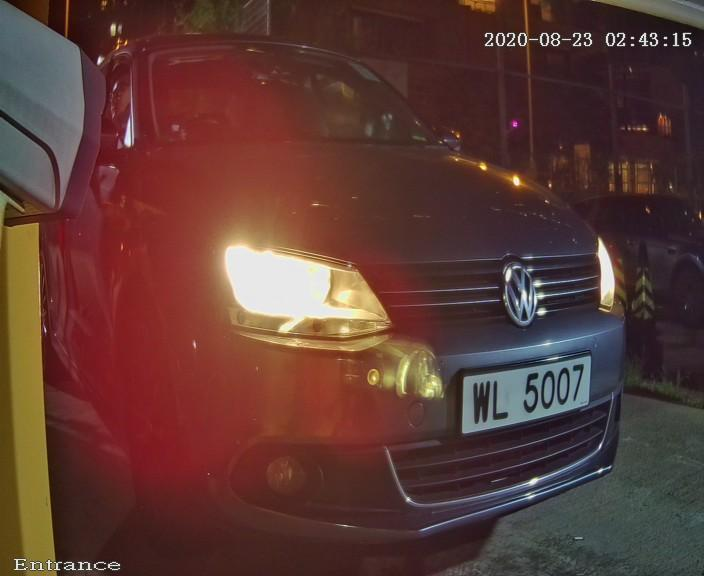Car: (13, 3, 698, 576)
License Plate: (425, 328, 609, 451)
